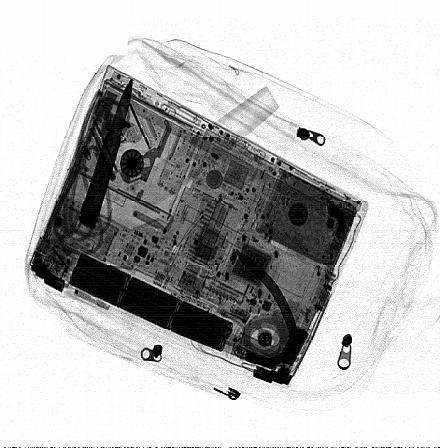Bullet: (77, 75, 135, 232)
